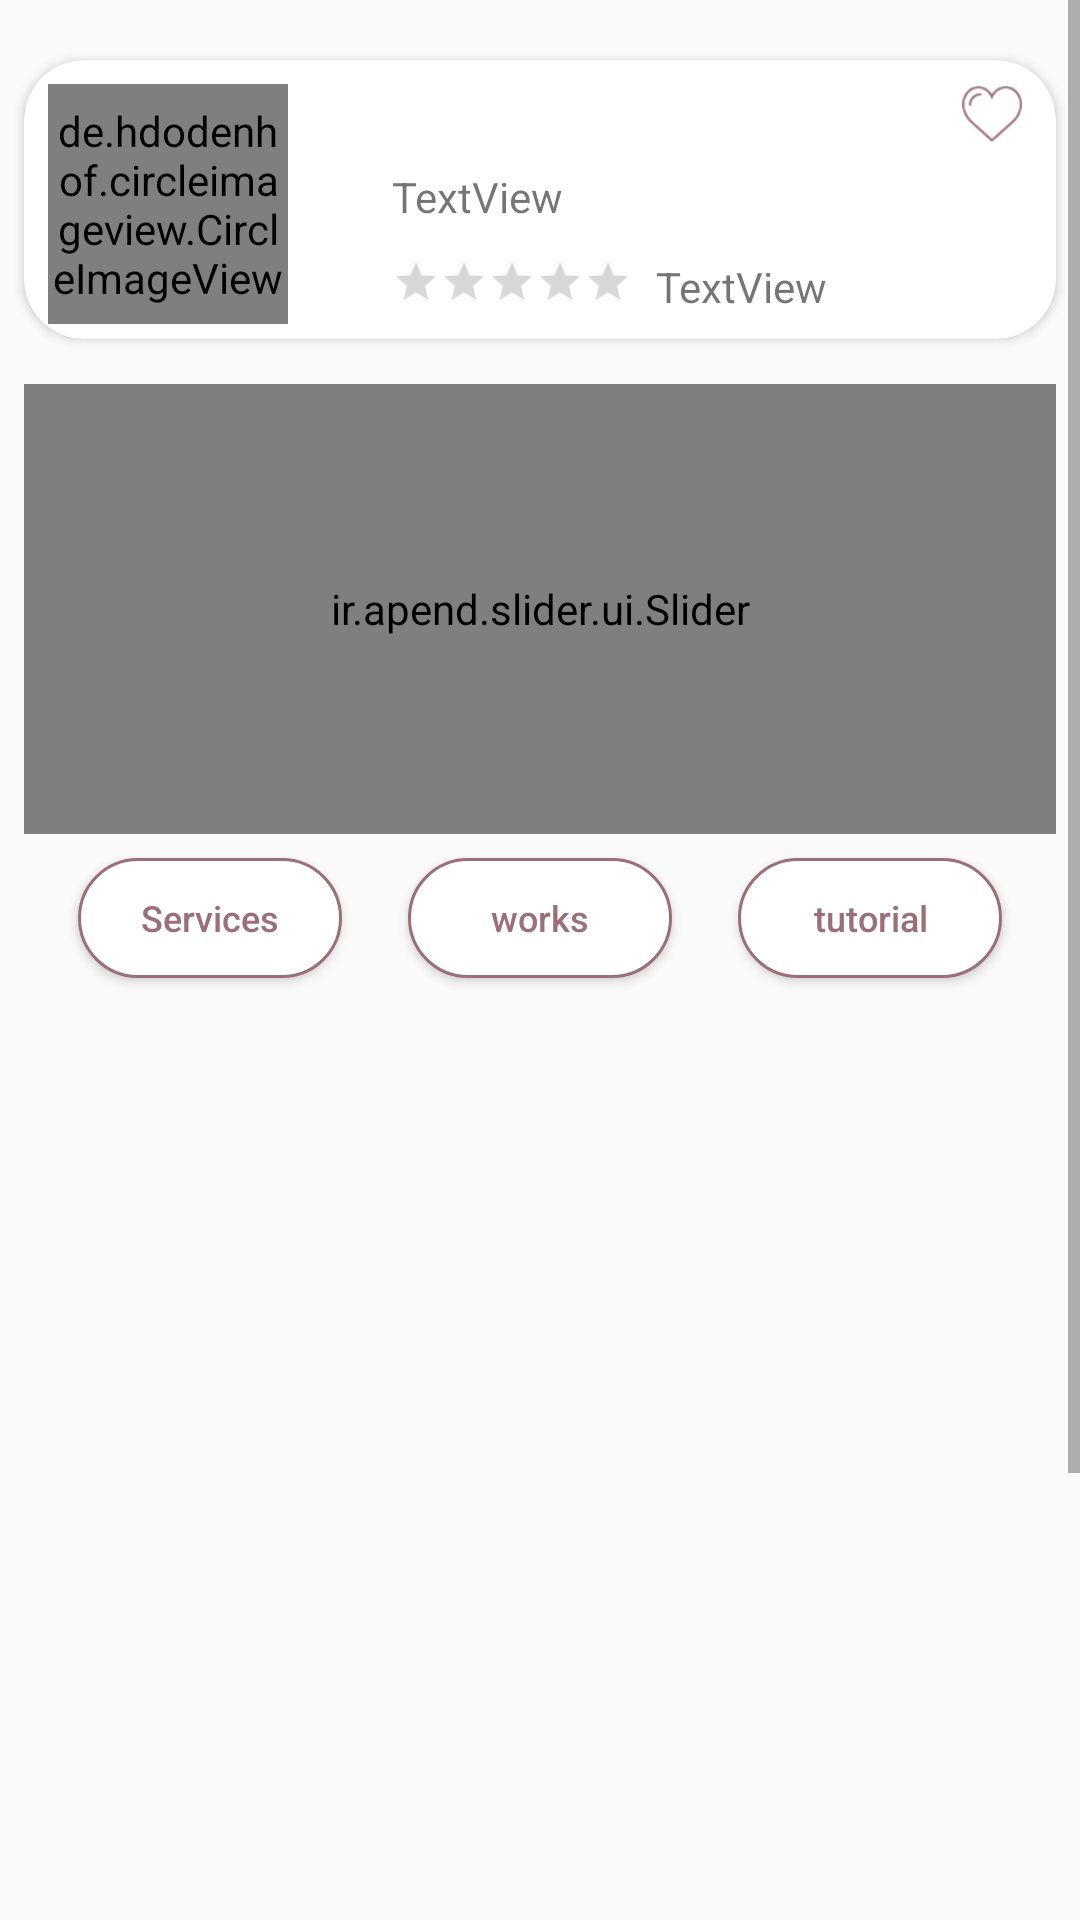

Locate icon controls on the screen. Image size 1080px x 1920px, boxes as (x1, y1, x2, y2).
fav: (962, 86, 1022, 142)
